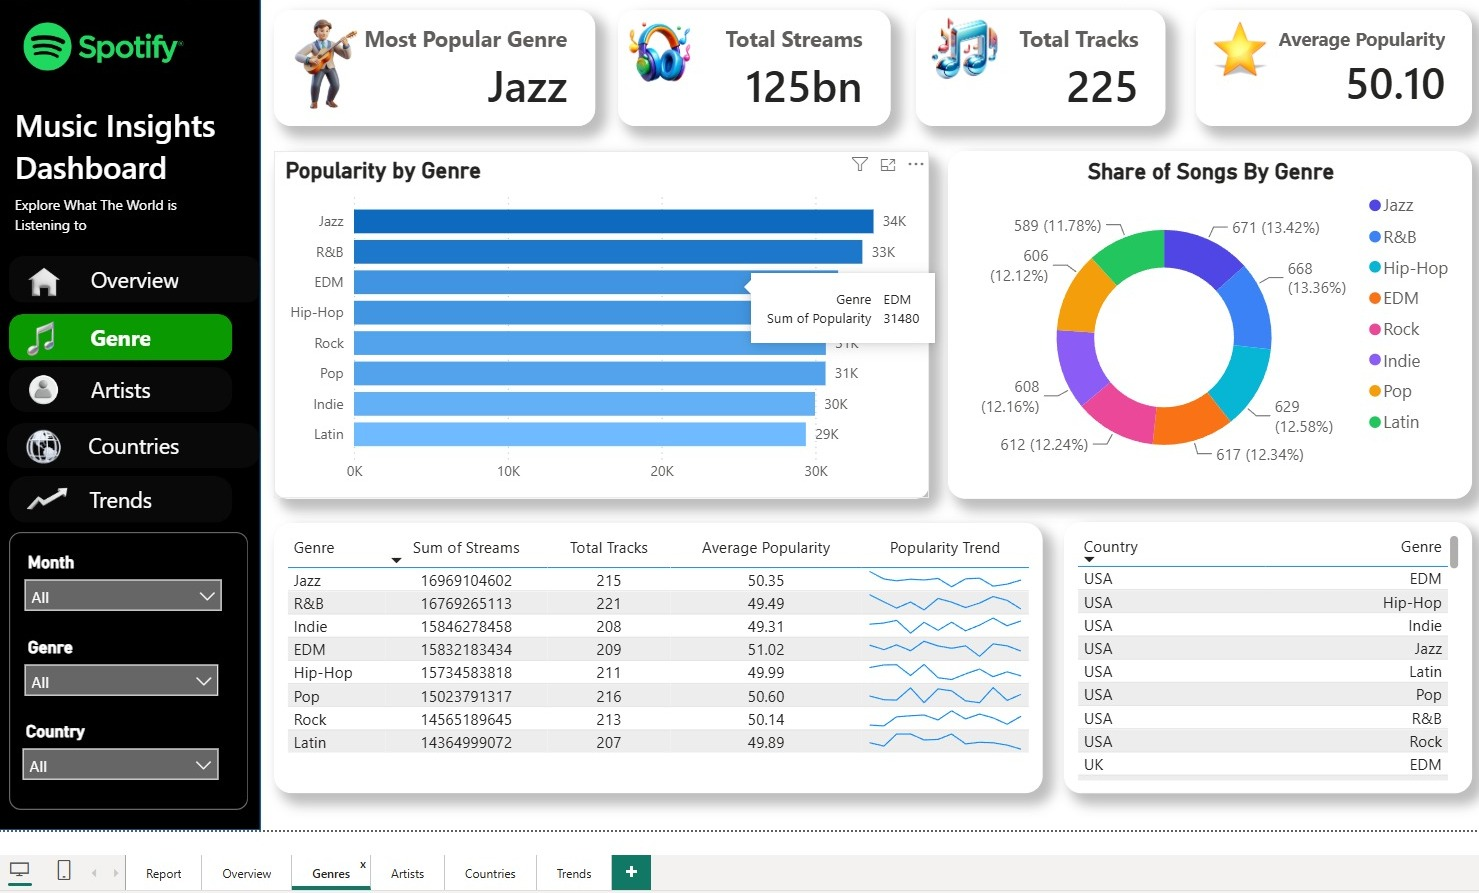

What the dashboard file says about the page in this screenshot:
{"tool":"powerbi","page":{"name":"Genre","canvas":[1280,720],"ordinal":2},"visuals":[{"type":"shape","box":[202.5,135,616.2,300],"z":0},{"type":"shape","box":[0,0,181,720.2],"z":1000},{"type":"image","box":[0,0,181,114.3],"z":2000},{"type":"textbox","box":[9.5,89.3,152.4,89.3],"z":3000},{"type":"textbox","box":[9.5,166.7,152.4,48.8],"z":4000},{"type":"cardVisual","fields":{"Data":["Spotify_Data.Total Streams"]},"box":[467.9,13.7,264.8,100.2],"z":5000},{"type":"cardVisual","fields":{"Data":["Spotify_Data.Average Popularity"]},"box":[1016.8,13.7,253.9,100.2],"z":6000},{"type":"cardVisual","fields":{"Data":["Spotify_Data.Total Tracks"]},"box":[761.6,13.7,245.6,100.2],"z":7000},{"type":"clusteredBarChart","title":"Popularity by Genre","fields":{"Y":["Sum(Spotify_Data.Popularity)"],"Category":["Spotify_Data.Genre"]},"box":[203,134.5,529.5,299.6],"z":8000},{"type":"donutChart","title":"Share of Songs By Genre","fields":{"Category":["Spotify_Data.Genre"],"Y":["CountNonNull(Spotify_Data.Track_Name)"]},"box":[761.8,134.5,508.7,299.6],"z":9000},{"type":"tableEx","fields":{"Values":["Spotify_Data.Genre","Sum(Spotify_Data.Streams)","Spotify_Data.Total Tracks","Spotify_Data.Average Popularity","SparklineData(Spotify_Data.Average Popularity_[Spotify_Data.Release_Date.Variation.Date Hierarchy.Month])"]},"box":[203,454.9,699.5,233.6],"z":10000},{"type":"tableEx","fields":{"Values":["Spotify_Data.Country","Spotify_Data.Genre"]},"box":[919.6,454.9,352.2,233.6],"z":11000},{"type":"actionButton","box":[10,225,152.5,40],"z":12000},{"type":"actionButton","box":[10,275,152.5,40],"z":13000},{"type":"actionButton","box":[10,320,152.5,40],"z":14000},{"type":"actionButton","box":[7.5,368.8,156.2,40],"z":15000},{"type":"actionButton","box":[10,415,152.5,40],"z":16000},{"type":"cardVisual","fields":{"Data":["Spotify_Data.Most Popular Genre"]},"box":[203.1,13.7,251.1,100.2],"z":17000}]}

Visuals, with their boxes on the page's 1280x720 design canvas (x1, y1, x2, y2). These are canvas units, not pixel positions in the 1479x893 screenshot, which may show the page scaled, cropped or inside an application window:
shape: [left=202, top=135, right=819, bottom=435]
shape: [left=0, top=0, right=181, bottom=720]
image: [left=0, top=0, right=181, bottom=114]
textbox: [left=10, top=89, right=162, bottom=179]
textbox: [left=10, top=167, right=162, bottom=216]
cardVisual - Spotify_Data.Total Streams: [left=468, top=14, right=733, bottom=114]
cardVisual - Spotify_Data.Average Popularity: [left=1017, top=14, right=1271, bottom=114]
cardVisual - Spotify_Data.Total Tracks: [left=762, top=14, right=1007, bottom=114]
"Popularity by Genre" clusteredBarChart: [left=203, top=134, right=732, bottom=434]
"Share of Songs By Genre" donutChart: [left=762, top=134, right=1270, bottom=434]
tableEx - Spotify_Data.Genre x Sum(Spotify_Data.Streams): [left=203, top=455, right=902, bottom=688]
tableEx - Spotify_Data.Country x Spotify_Data.Genre: [left=920, top=455, right=1272, bottom=688]
actionButton: [left=10, top=225, right=162, bottom=265]
actionButton: [left=10, top=275, right=162, bottom=315]
actionButton: [left=10, top=320, right=162, bottom=360]
actionButton: [left=8, top=369, right=164, bottom=409]
actionButton: [left=10, top=415, right=162, bottom=455]
cardVisual - Spotify_Data.Most Popular Genre: [left=203, top=14, right=454, bottom=114]
